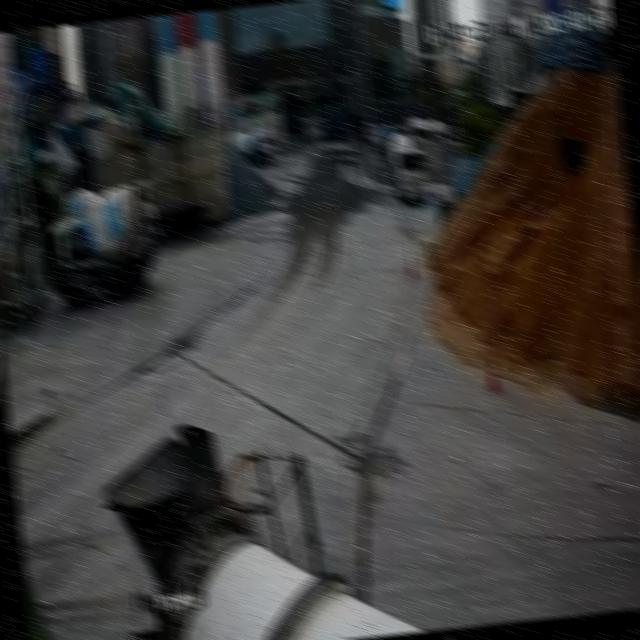cement_mixer_truck: (103, 423, 424, 640), (43, 193, 154, 313), (380, 131, 430, 202), (225, 123, 280, 170), (49, 184, 100, 219), (426, 108, 452, 146), (409, 125, 429, 146), (405, 112, 431, 124)
